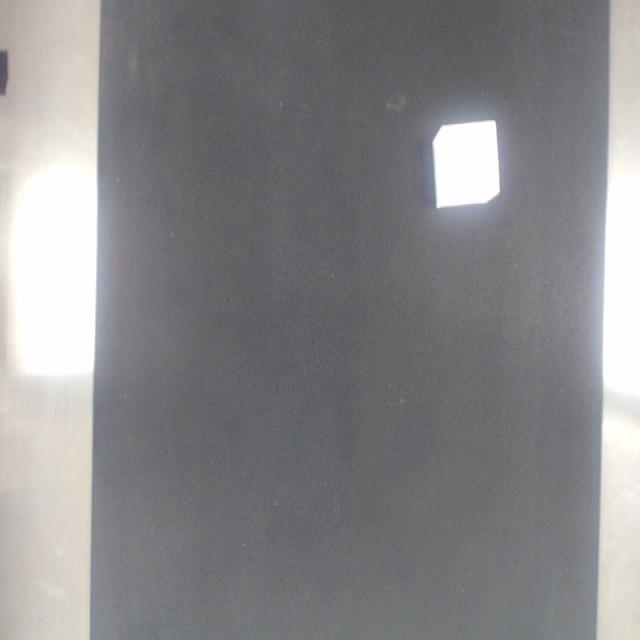Blanco: (432, 120, 499, 207)
